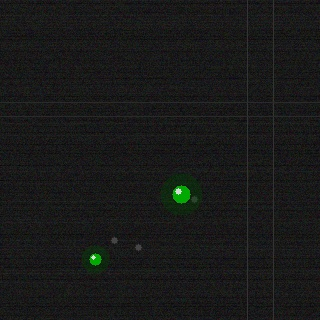green_normal: (170, 183, 192, 205), (87, 251, 103, 267)
